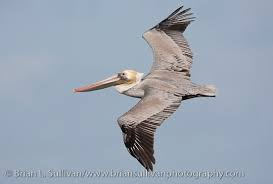pelican: (71, 6, 217, 171)
